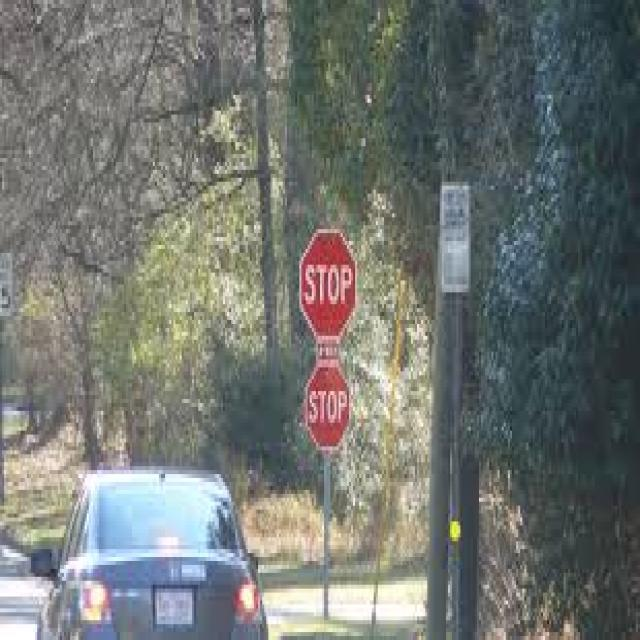stop-sign: (297, 351, 364, 448), (287, 242, 357, 316)
